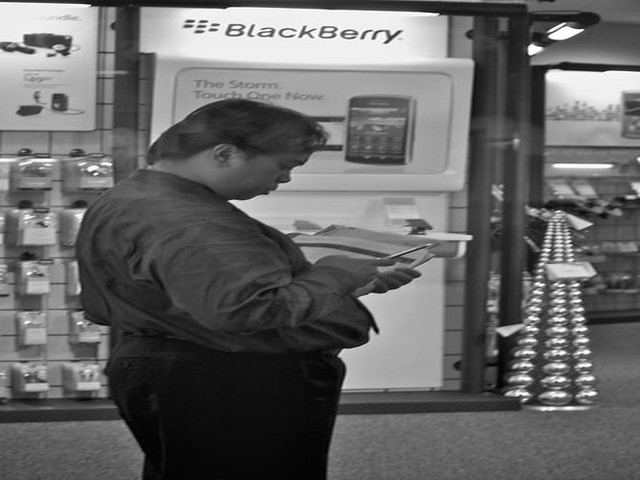Person: (58, 92, 417, 480)
